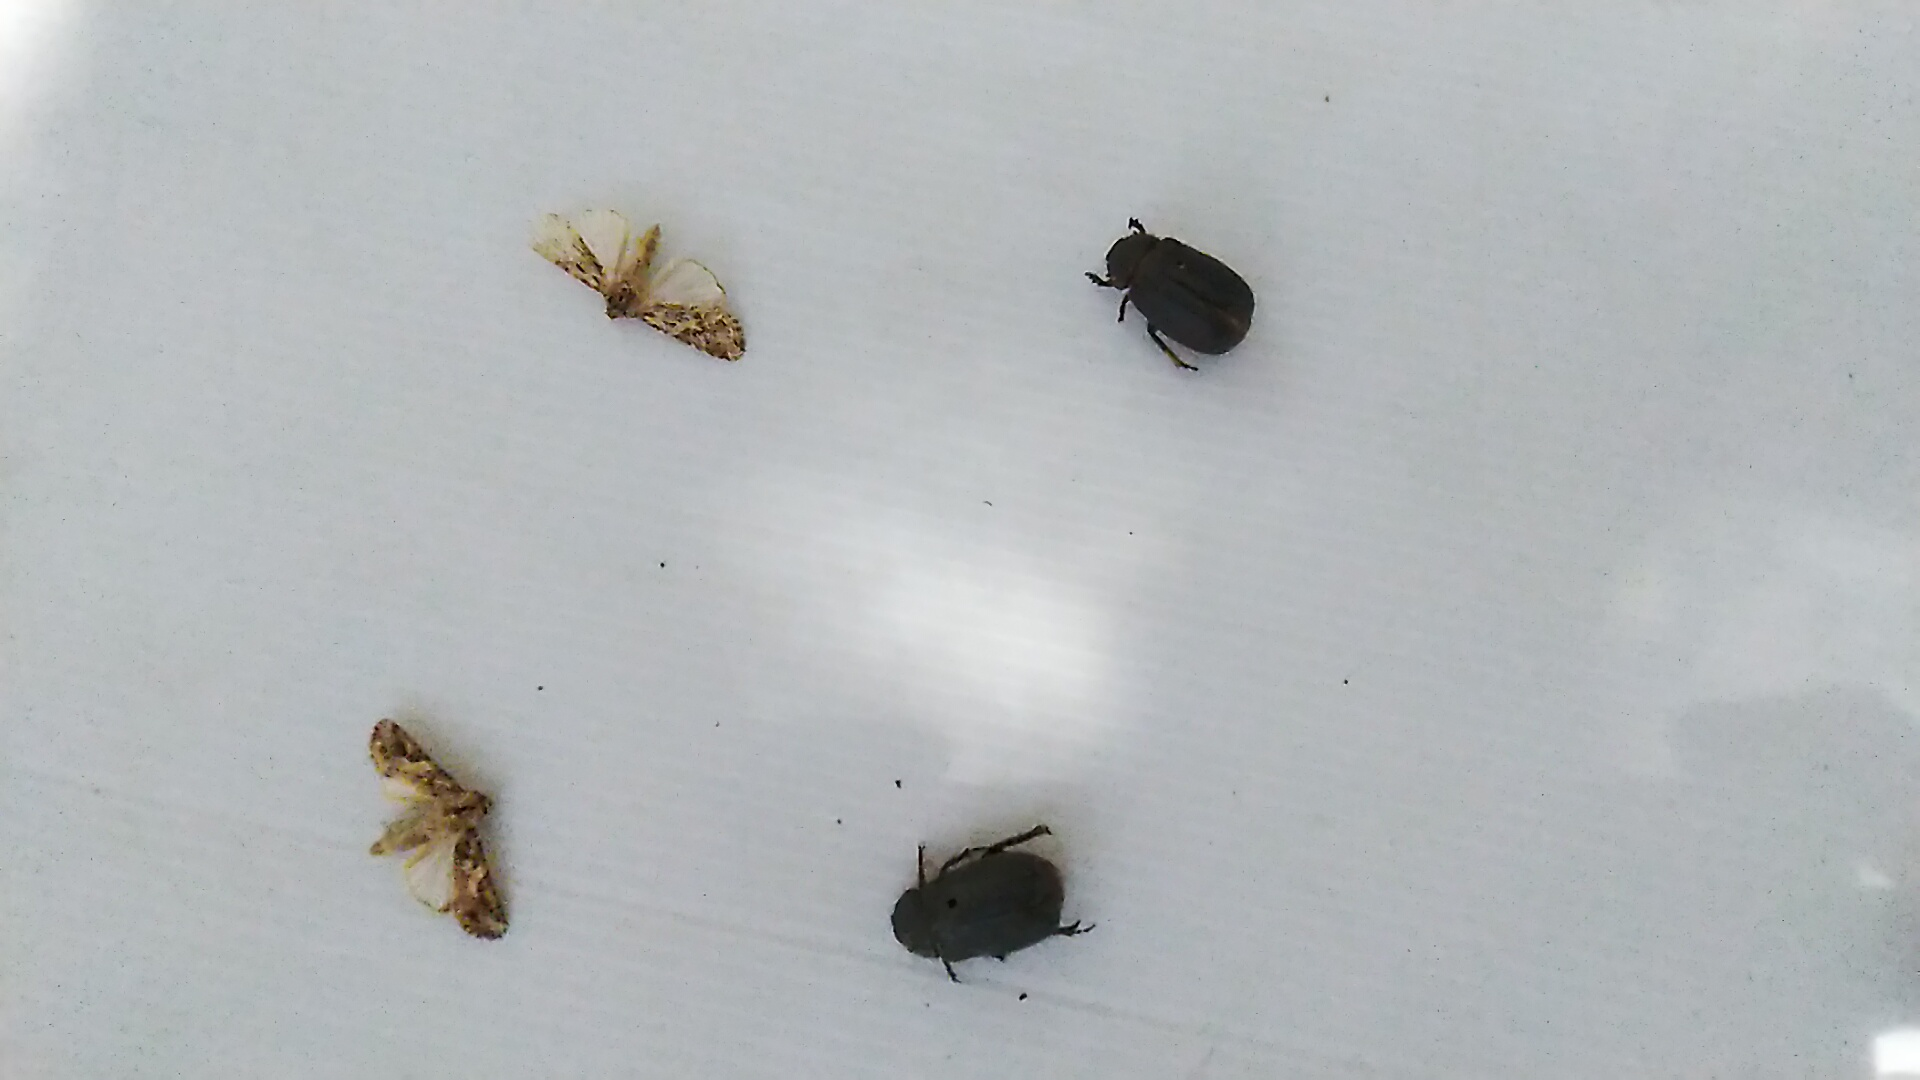INS-A: (881, 818, 1102, 986), (1081, 204, 1266, 375)
INS-B: (353, 707, 518, 945), (524, 203, 754, 371)
